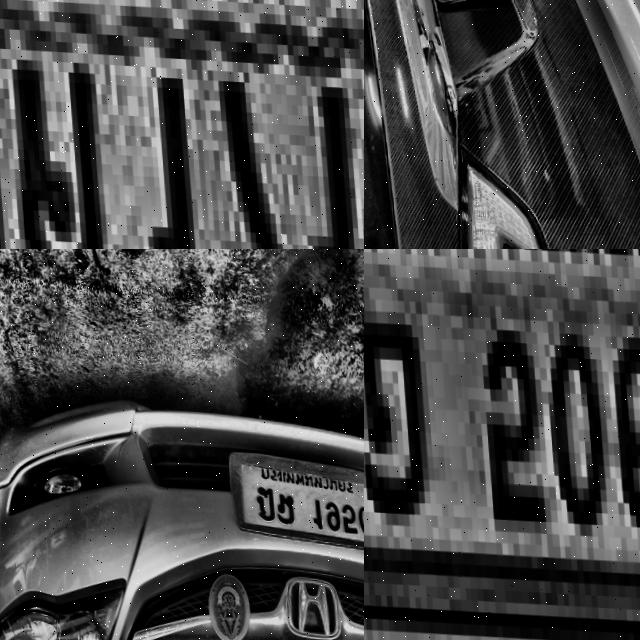license-plate: (364, 249, 640, 640), (0, 0, 364, 249), (220, 437, 364, 550)
